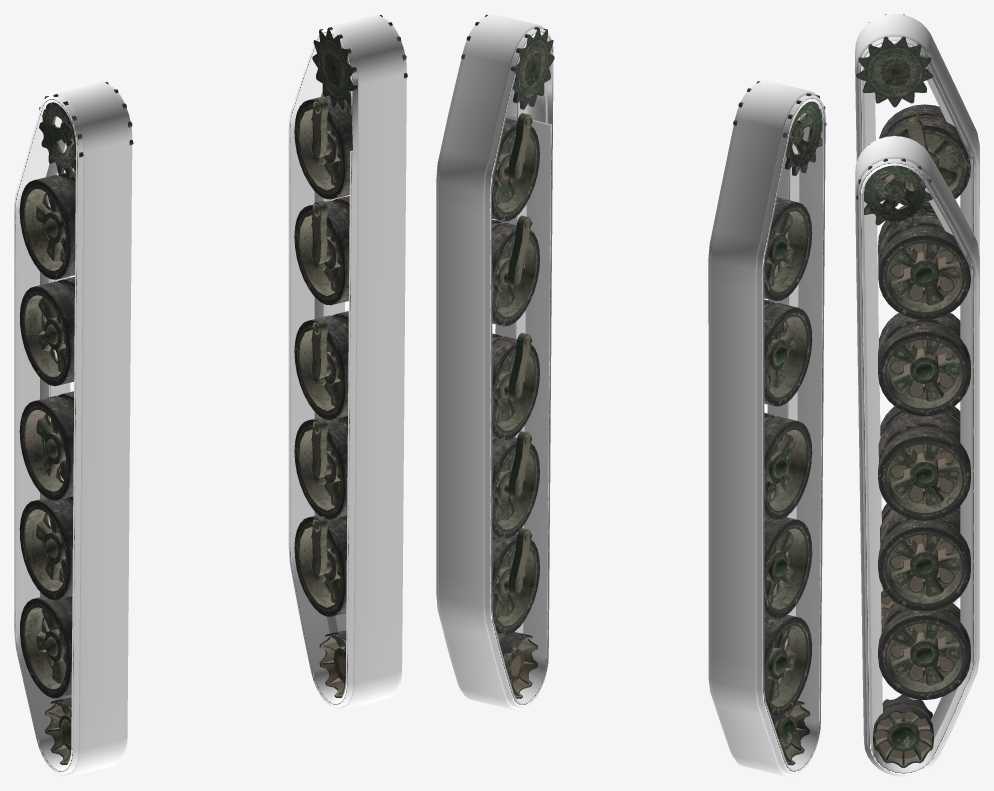
The model's file is Chassis.glb.
3 views of the same model, side by side, from view 1: azimuth 30°, elevation 25°; view 2: azimuth 150°, elevation 25°; view 3: azimuth 270°, elevation 25° (orthographic). The views are drawn at different scales.
Parts seen in each view (by area): view 1: set_0_group_0, set_1_group_0, set_3_group_0, set_2_group_0; view 2: set_0_group_0, set_1_group_0, set_3_group_0, set_2_group_0; view 3: set_3_group_0, set_1_group_0, set_2_group_0, set_0_group_0.
Boxes of the visible parts, x1,y1,x2,y2 form: set_0_group_0: (14,81,132,776); set_1_group_0: (288,14,406,709); set_3_group_0: (294,15,407,697); set_2_group_0: (19,82,133,764); set_0_group_0: (708,80,825,776); set_1_group_0: (436,14,553,710); set_3_group_0: (461,14,554,698); set_2_group_0: (733,81,826,765); set_3_group_0: (856,136,970,767); set_1_group_0: (855,136,979,776); set_2_group_0: (856,14,970,621); set_0_group_0: (855,14,979,604).
Size of the model in its own units: 3.08 by 6.13 by 1.11.
Materials: 4 (2 with a texture image).
